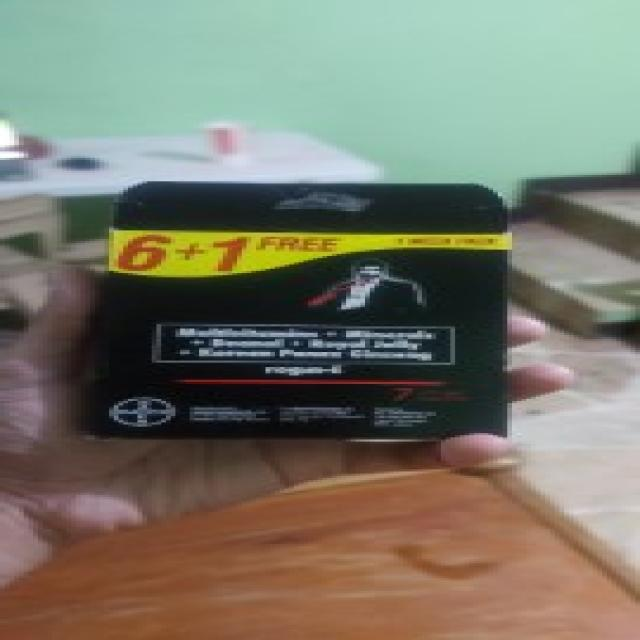Cacat: (82, 183, 512, 442)
